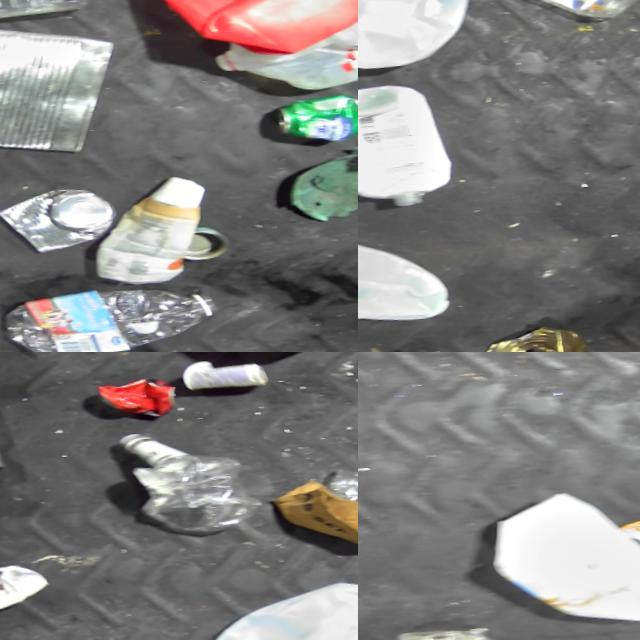can: (0, 169, 112, 257), (266, 74, 358, 142), (490, 309, 589, 352), (605, 484, 640, 561)
milk_jug: (492, 472, 640, 621), (195, 0, 358, 102), (193, 553, 358, 640), (358, 196, 453, 334), (358, 0, 474, 72)
plastic_bottle: (0, 266, 227, 352), (0, 546, 54, 640), (0, 0, 90, 46)
